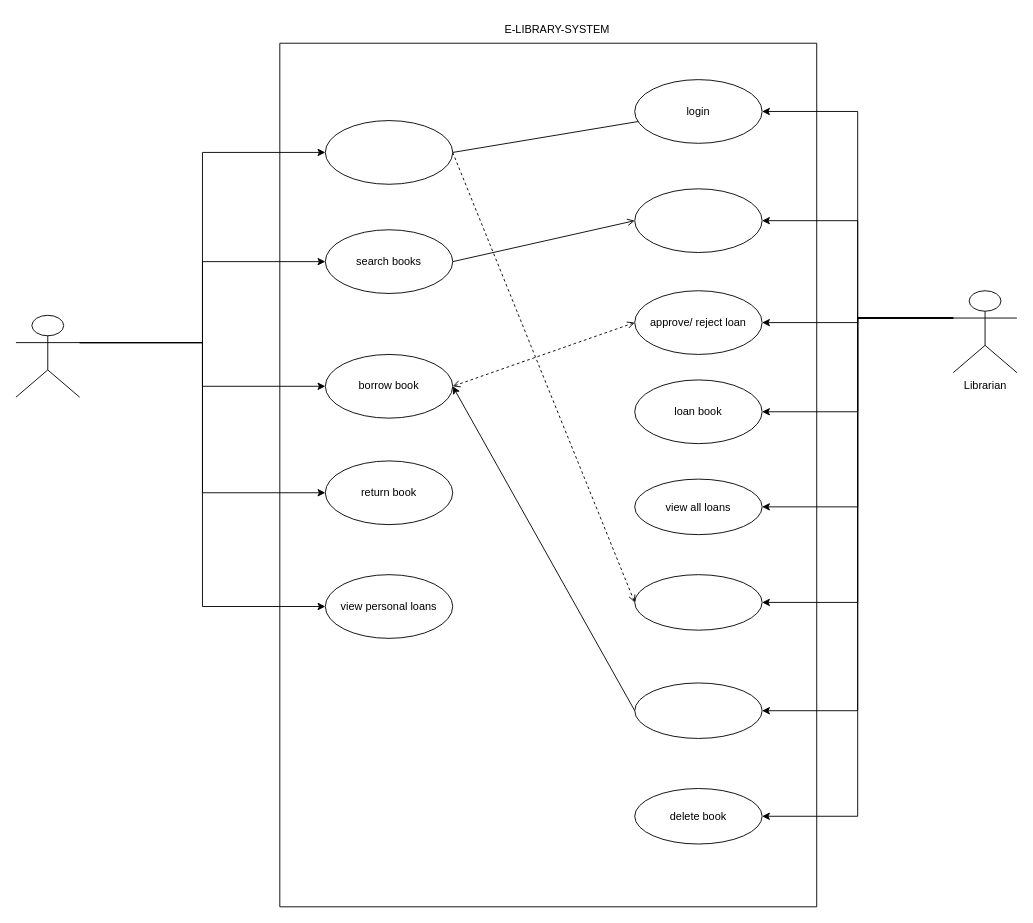
The diagram is 1033 pixels wide and 923 high, and some of its shapes have lost their labels. The centre of each missing label's shape, as x and y in pixels:
"add/update book" belongs at point 698,220.
"manage members" belongs at point 698,602.
"Member" belongs at point 47,355.
"register" belongs at point 388,152.
"retrieve book" belongs at point 698,710.
